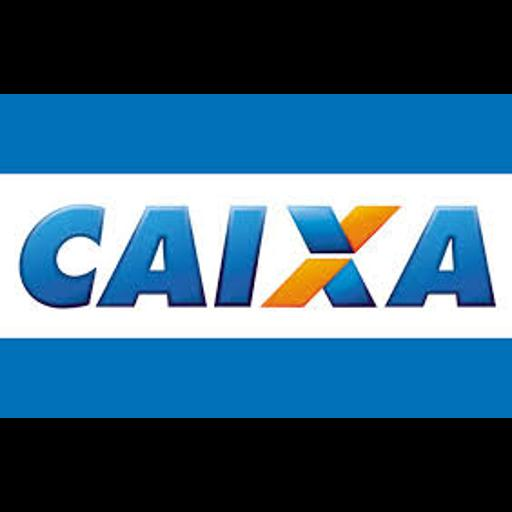Caixa Economica Federal: (0, 94, 512, 418)
